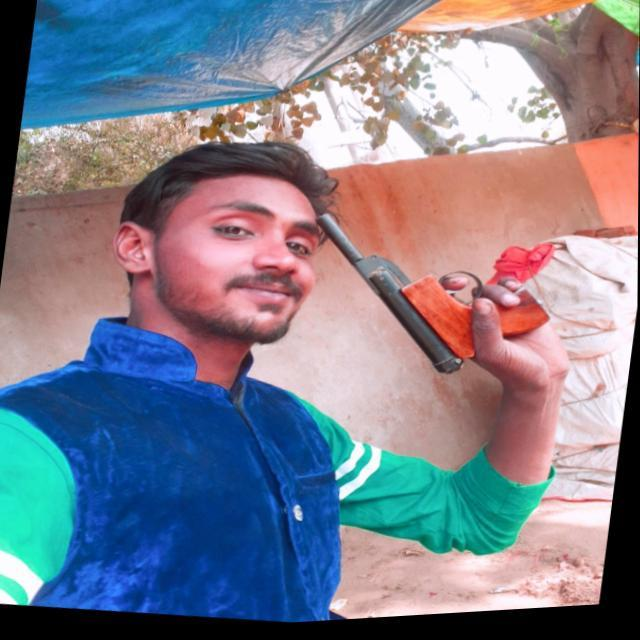weapon: (294, 198, 567, 404)
